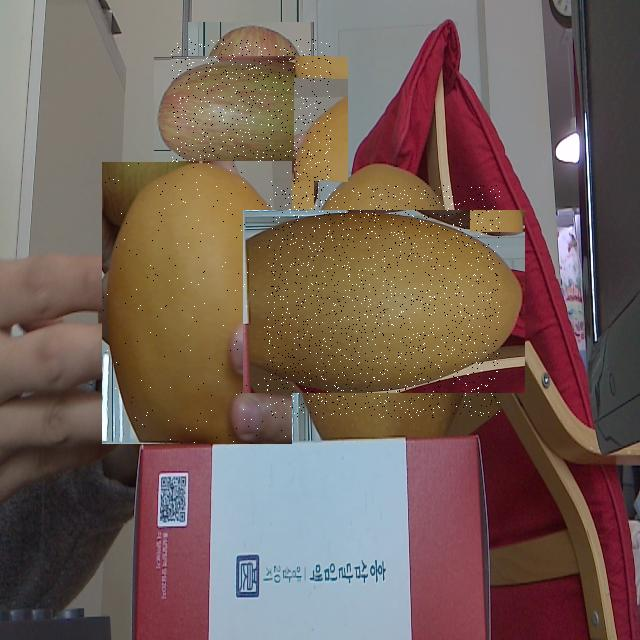apple: (171, 39, 331, 200)
pear: (267, 185, 500, 418), (102, 162, 292, 444)
